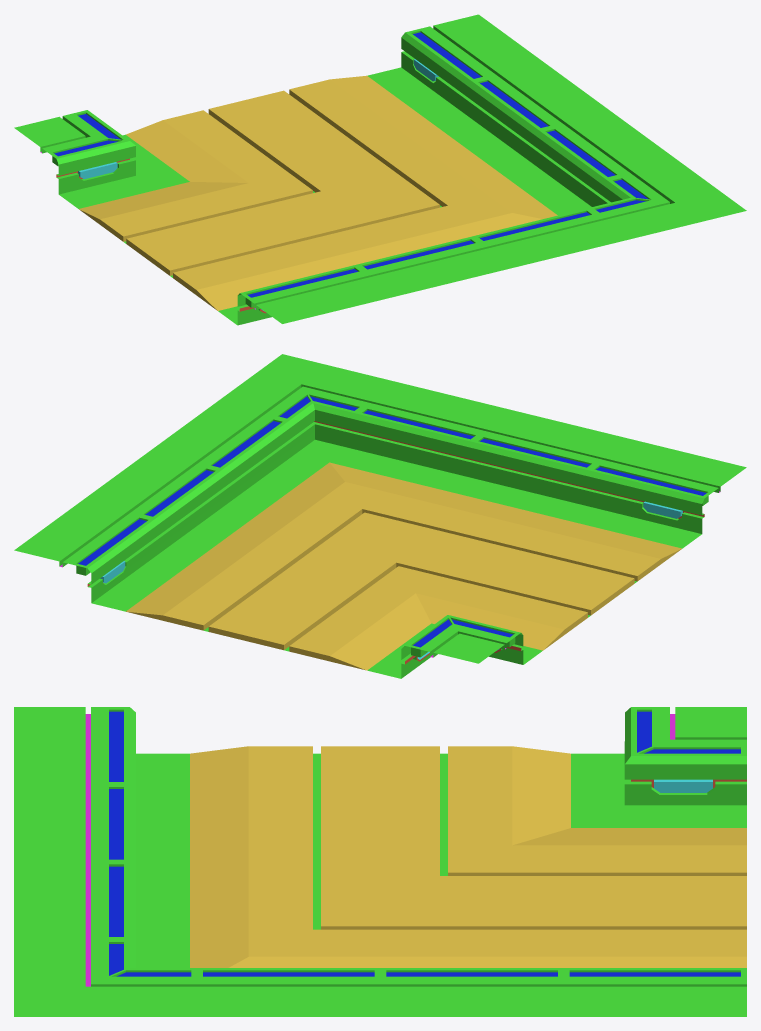
Rendered from Interior_Deco_10_Corner.fbx.
3 views of the same model, one above another, from view 1: azimuth 30°, elevation 25°; view 2: azimuth 150°, elevation 25°; view 3: azimuth 270°, elevation 25° (orthographic). The views are drawn at different scales.
Parts seen in each view (by area): view 1: Interior_Deco_10_Corner; view 2: Interior_Deco_10_Corner; view 3: Interior_Deco_10_Corner.
Part boxes in pixels (left/top/right/bottom): Interior_Deco_10_Corner: left=14, top=14, right=746, bottom=325; Interior_Deco_10_Corner: left=14, top=354, right=746, bottom=678; Interior_Deco_10_Corner: left=14, top=707, right=746, bottom=1016.
Bounding box in the file's own units: 457 × 32 × 457.
